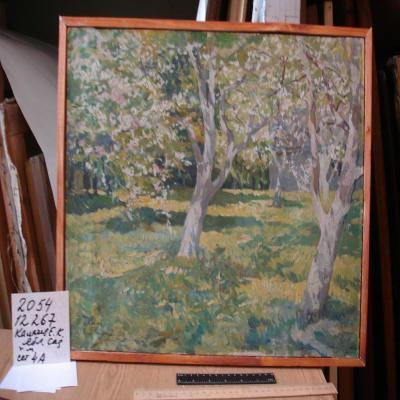painting: (53, 17, 374, 371)
